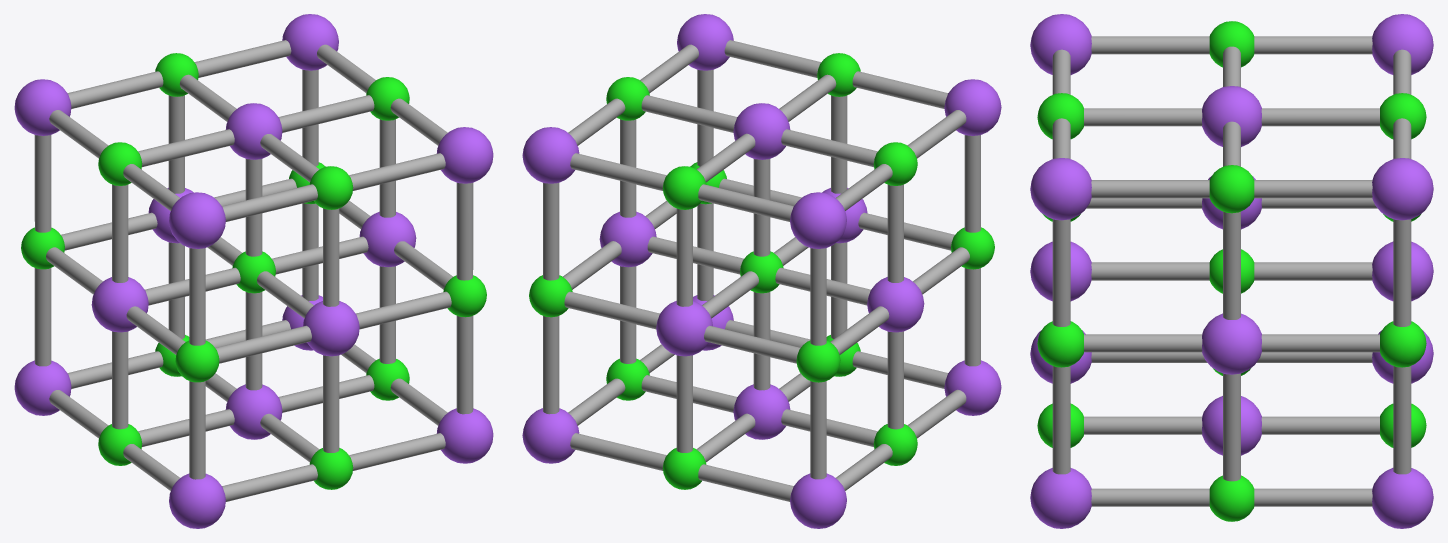
Rendered from chemistry.glb.
3 renders of one model, left to right at view 1: azimuth 30°, elevation 25°; view 2: azimuth 150°, elevation 25°; view 3: azimuth 270°, elevation 25°, orthographic. The views are drawn at different scales.
Visible parts, largest first — view 1: _3 (×50), _0 (×24); view 2: _3 (×50), _0 (×24); view 3: _3 (×30), _0 (×24).
Boxes of the visible parts, bbox=[...] form: _3 (×50): bbox=[34, 40, 473, 501]; _0 (×24): bbox=[14, 14, 493, 528]; _3 (×50): bbox=[543, 40, 980, 501]; _0 (×24): bbox=[522, 14, 1001, 528]; _3 (×30): bbox=[1052, 36, 1411, 506]; _0 (×24): bbox=[1030, 14, 1433, 528].
Bounding box in the file's own units: 66.84 × 66.84 × 66.84.
